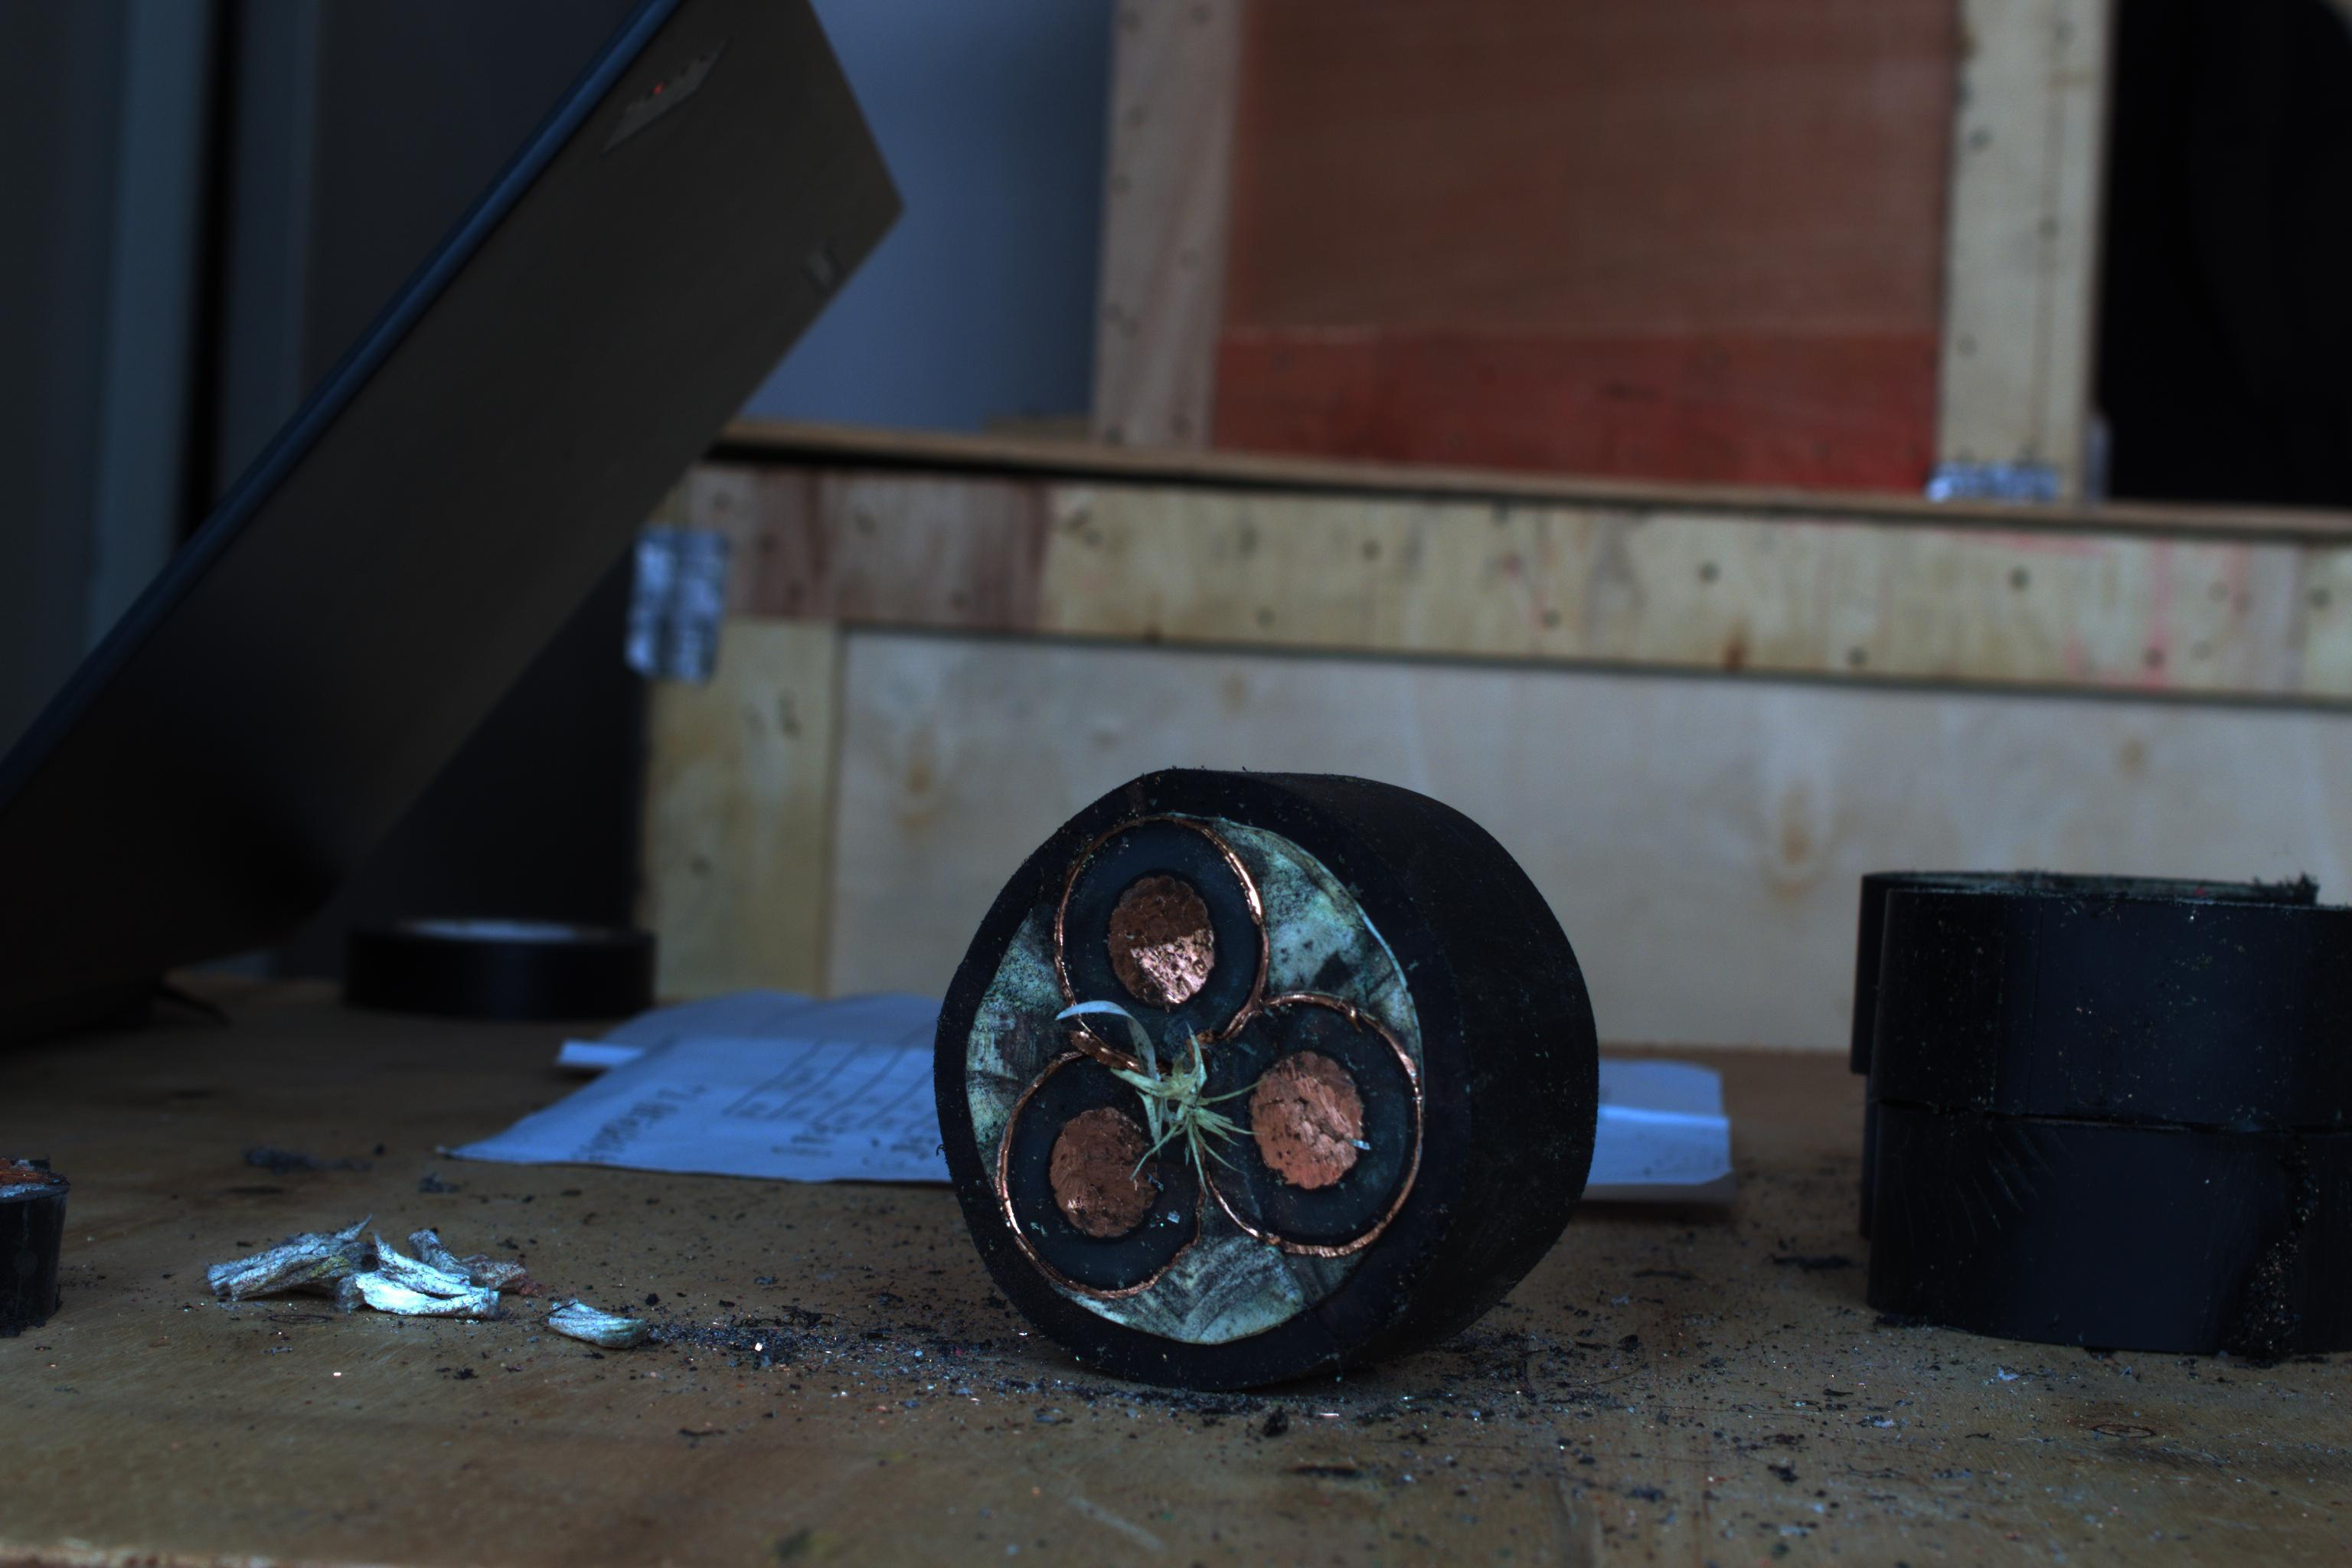ZA_YJV_8.7_10kV_3x120: (908, 798, 1465, 1361)
